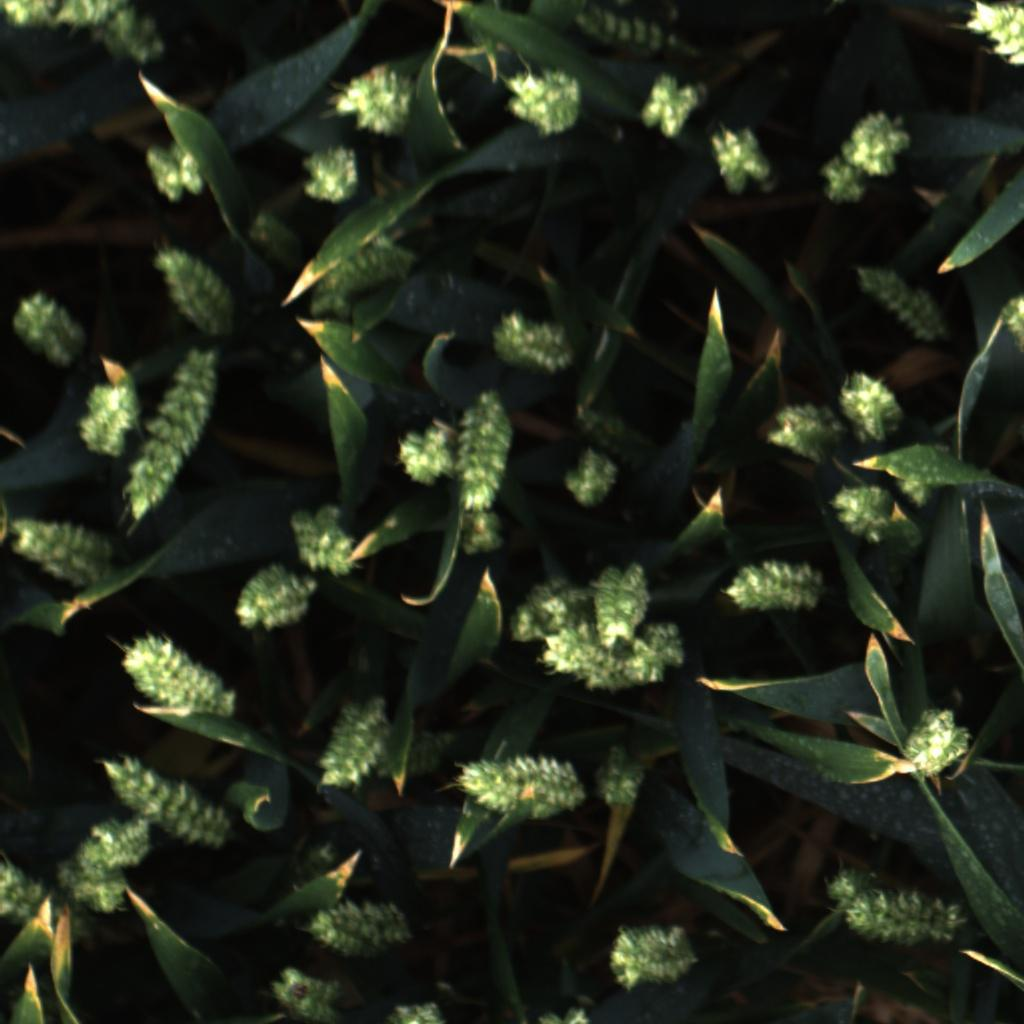0-0: (127, 347, 221, 527), (102, 751, 238, 850), (819, 860, 967, 947), (115, 624, 237, 719), (304, 236, 415, 326), (450, 750, 584, 819), (453, 384, 525, 511), (150, 240, 242, 339), (500, 562, 613, 638), (853, 259, 944, 346), (10, 512, 110, 590), (314, 691, 389, 795), (302, 895, 415, 962), (0, 851, 74, 948), (537, 628, 647, 693), (566, 400, 666, 471), (606, 917, 696, 995), (720, 554, 829, 618), (232, 556, 322, 633), (269, 834, 352, 915), (331, 62, 417, 140), (488, 305, 578, 377), (758, 393, 849, 464), (9, 290, 90, 369), (498, 67, 586, 135), (591, 555, 654, 648), (966, 0, 1024, 101), (73, 377, 141, 461), (569, 6, 677, 58), (284, 504, 359, 577), (902, 706, 975, 776), (833, 373, 906, 443), (703, 128, 774, 199), (824, 481, 901, 546), (139, 135, 210, 205), (268, 963, 349, 1024), (93, 5, 168, 70), (841, 108, 915, 173), (633, 73, 705, 139), (296, 140, 364, 208), (394, 417, 457, 490), (75, 816, 157, 872), (388, 721, 455, 786), (52, 858, 125, 917), (621, 622, 687, 687), (586, 742, 648, 811), (0, 0, 137, 30), (560, 452, 625, 511), (812, 156, 868, 210), (455, 513, 506, 557)
